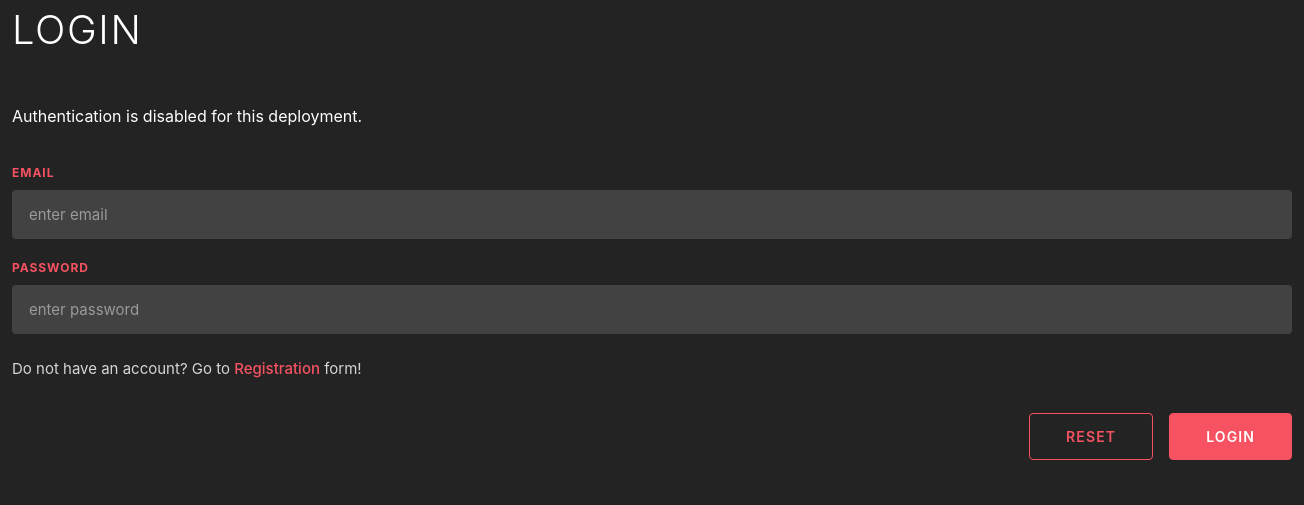
Scenario: UserForm Component › login form › shows authentication failure and stays on the form
Type "john@example.com" into the field with placeholder "enter email".
click(652, 214); type("john@example.com")  # box left=12, top=190, right=1292, bottom=239
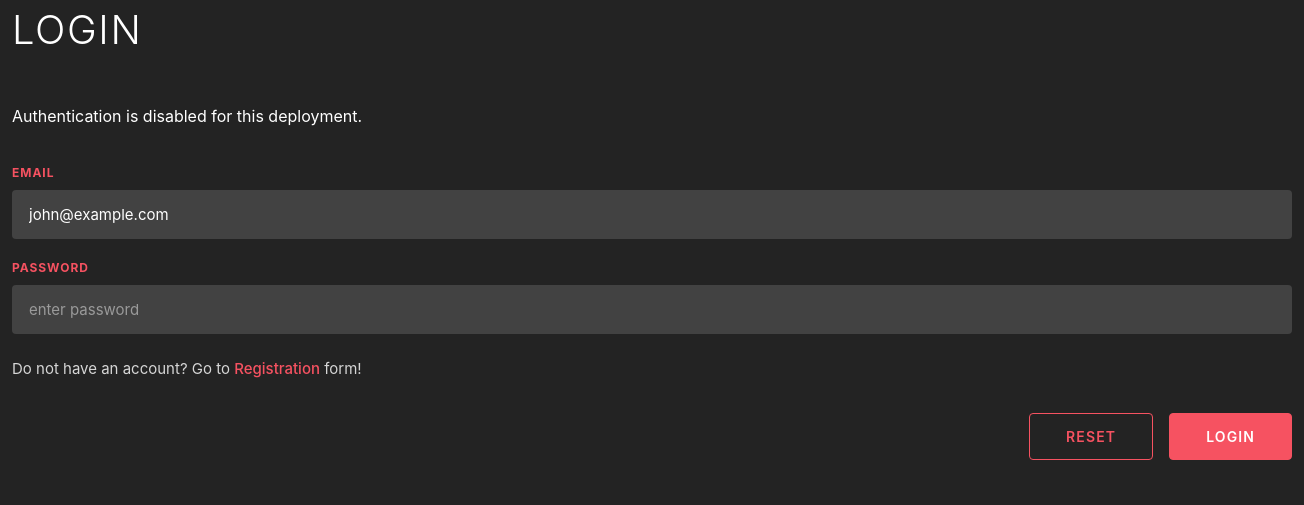
Type "wrong-password" into the password field with placeholder "enter password".
click(652, 310); type("wrong-password")  # box left=12, top=285, right=1292, bottom=334
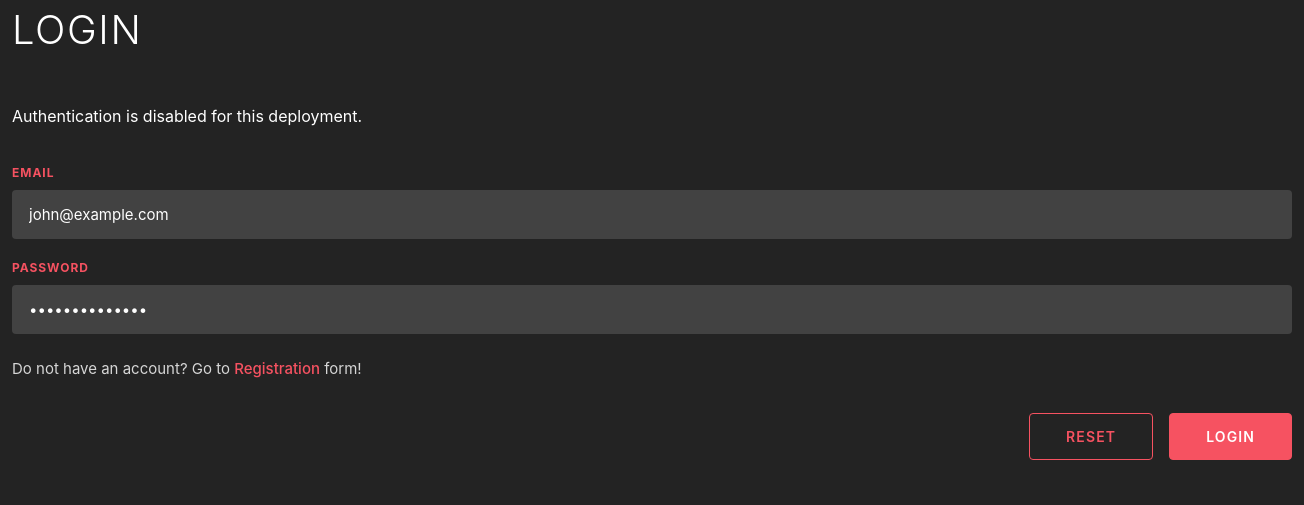
Click the button "LOGIN".
click(1231, 436)  # box left=1169, top=413, right=1292, bottom=460
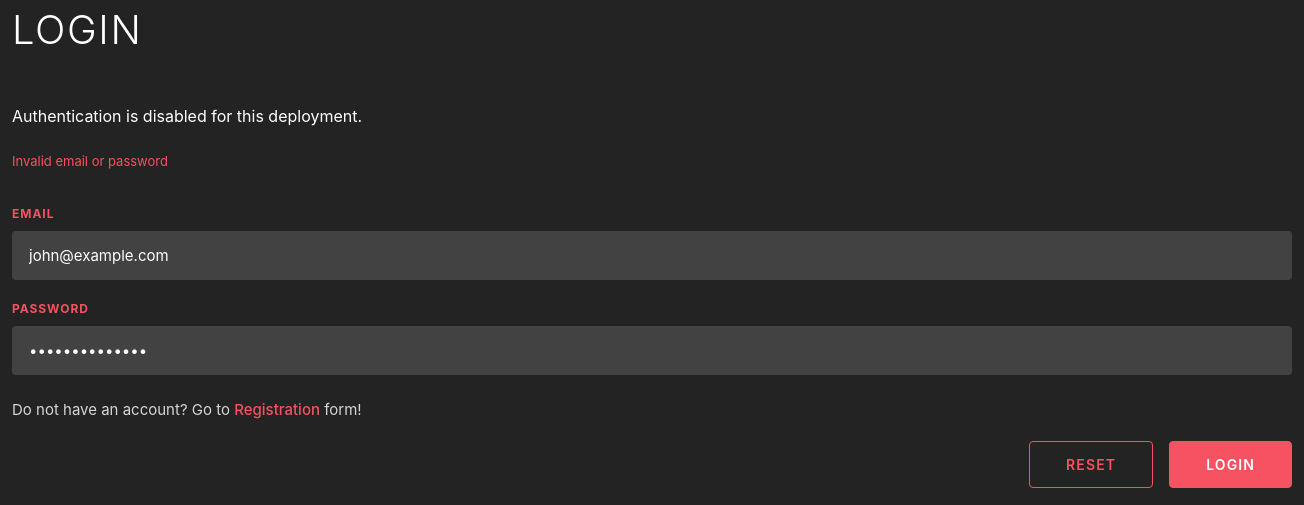
Now the message "Invalid email or password" is shown, box left=12, top=153, right=168, bottom=169
